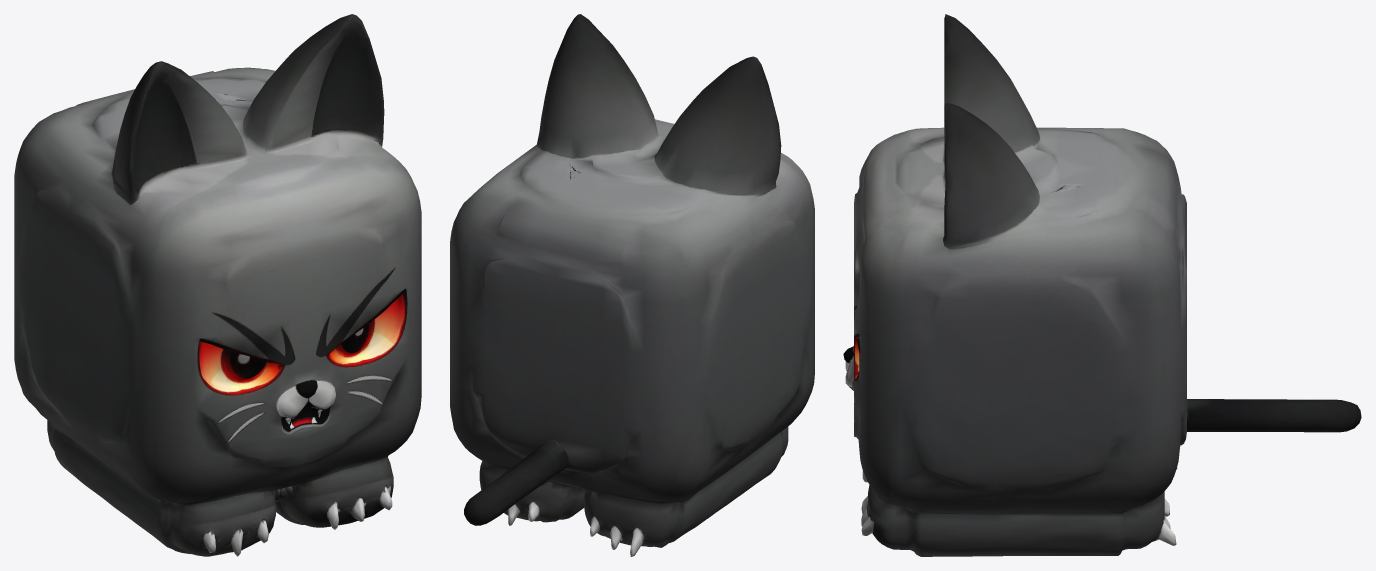
Rendered from grumpy_cat_basic.obj.
3 views of the same model, side by side, from view 1: azimuth 30°, elevation 25°; view 2: azimuth 150°, elevation 25°; view 3: azimuth 270°, elevation 25° (orthographic). The views are drawn at different scales.
Parts seen in each view (by area): view 1: grumpy_cat_basic; view 2: grumpy_cat_basic; view 3: grumpy_cat_basic.
Part boxes in pixels (left/top/right/bottom): grumpy_cat_basic: left=14, top=14, right=421, bottom=556; grumpy_cat_basic: left=450, top=14, right=814, bottom=556; grumpy_cat_basic: left=843, top=14, right=1361, bottom=556.
Size of the model in its own units: 1.15 by 1.87 by 1.91.
Materials: 1 (1 with a texture image).
